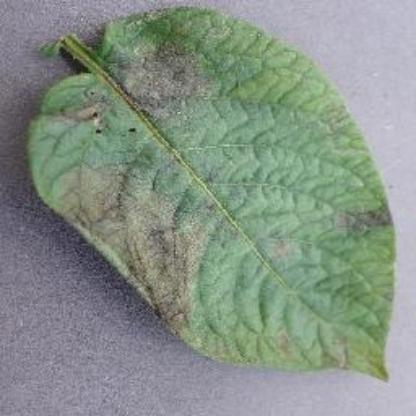Late-Blight: (20, 3, 400, 387)
